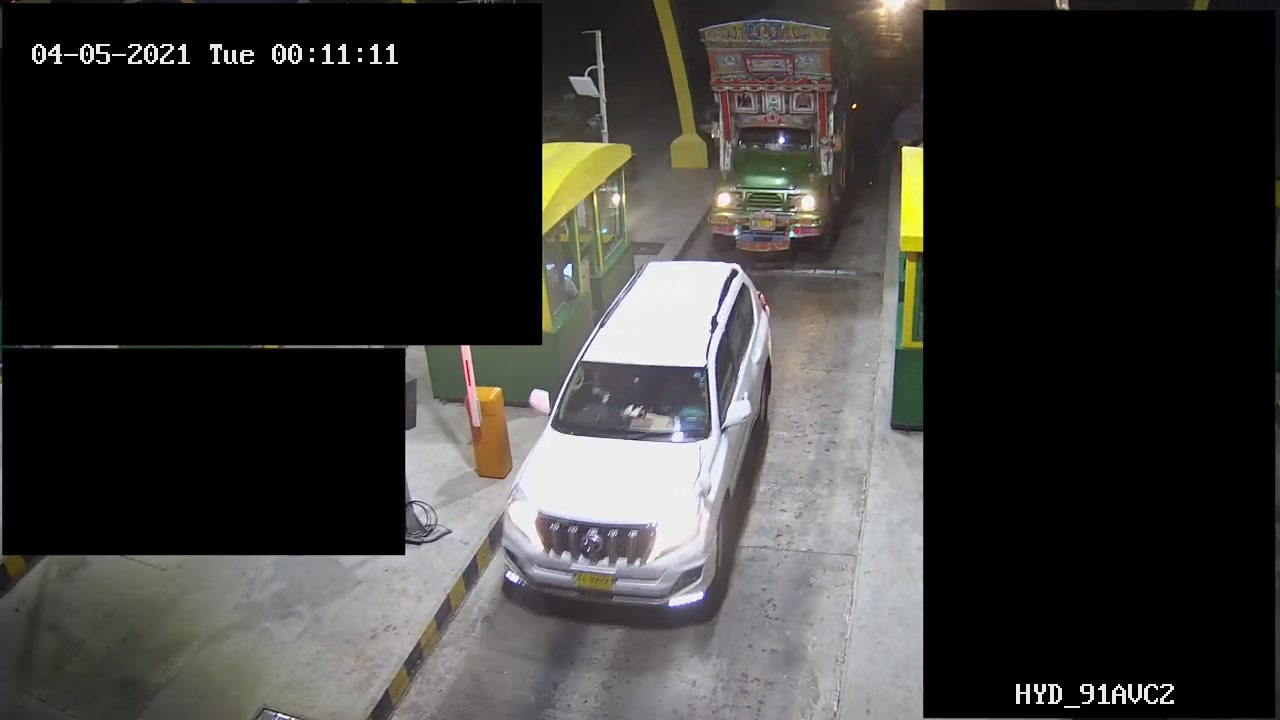F1: (483, 253, 833, 613)
